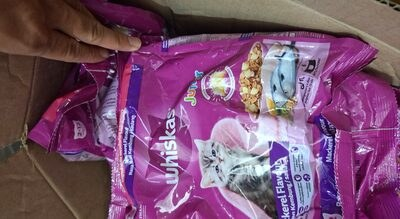whiskas junior mackrel: (20, 11, 380, 208)
